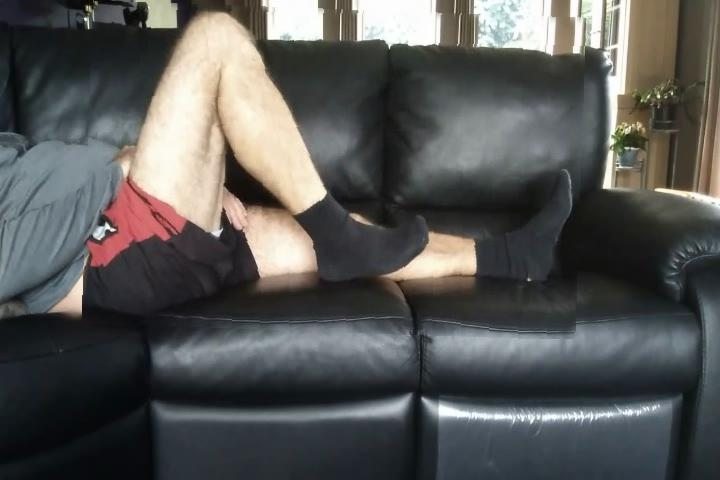lower_body: (85, 5, 585, 336)
